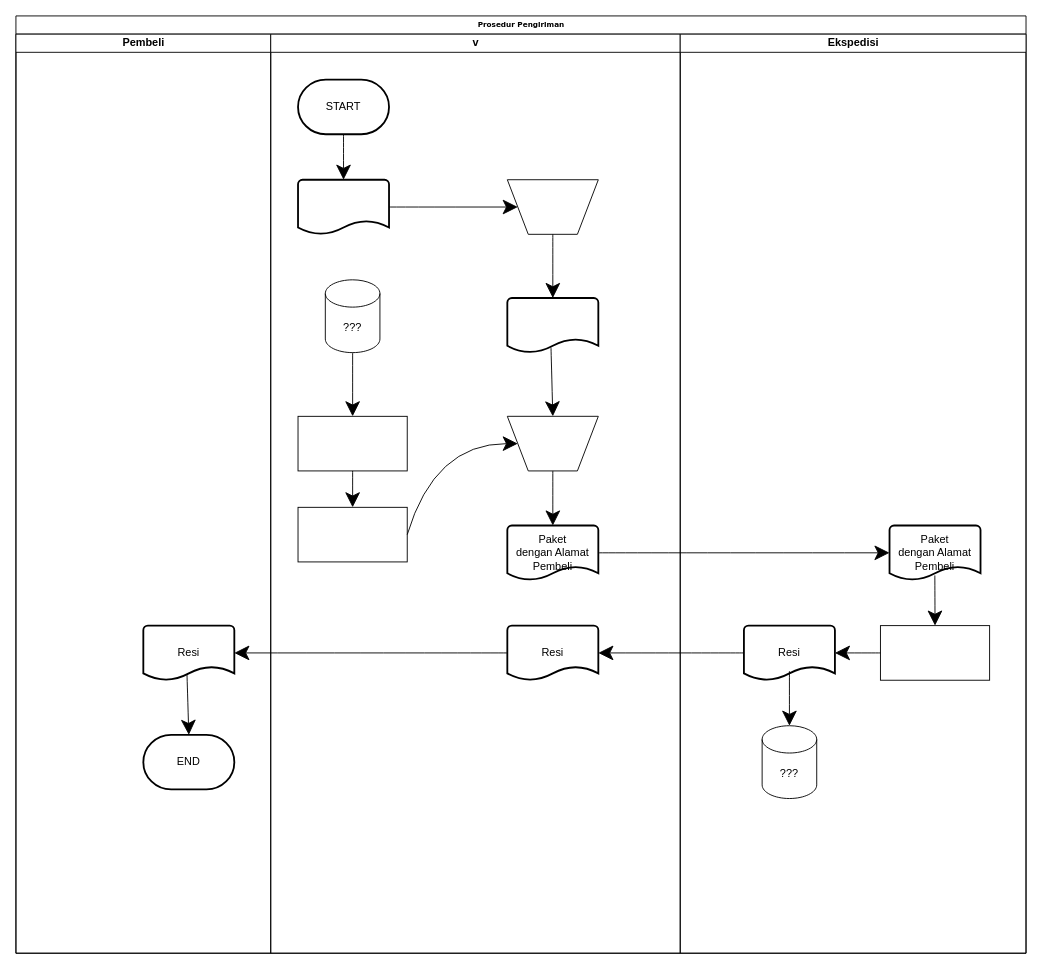
Image size: 1042x969. Some labels were removed from this diagram. The shapes that lost their labels are listed below. From the top down, each one's centre as x and y in pixels, then its label:
At [343,206]: "Produk yang ingin dikirim".
At [552,206]: "Packing".
At [552,325]: "Produk yang sudah di-packing".
At [352,443]: "Mencari Alamat Inputan Pembeli".
At [552,443]: "Menempelkan Alamat pada Paket".
At [352,534]: "Mencetak Alamat Pembeli".
At [935,652]: "Membuat Resi".
